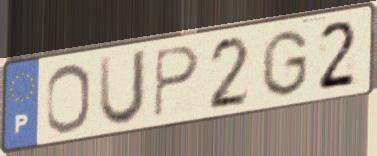2: (314, 18, 363, 94), (207, 34, 254, 111)
G: (258, 28, 311, 100)
O: (44, 61, 93, 136)
P: (152, 43, 202, 122)
U: (96, 46, 151, 129)
